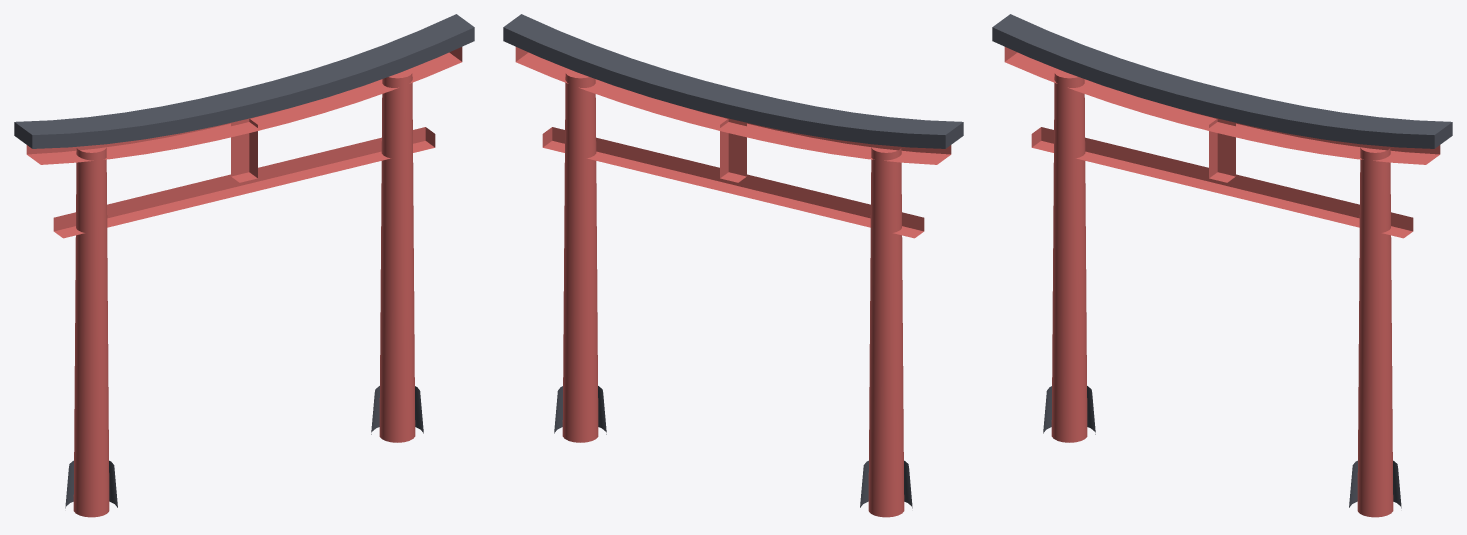
The model's file is torii_gate.glb.
3 renders of one model, left to right at view 1: azimuth 30°, elevation 25°; view 2: azimuth 150°, elevation 25°; view 3: azimuth 330°, elevation 25°, orthographic.
Parts seen in each view (by area): view 1: torii_gate; view 2: torii_gate; view 3: torii_gate.
Boxes of the visible parts, x1,y1,x2,y2 form: torii_gate: (14, 14, 474, 517); torii_gate: (503, 14, 963, 517); torii_gate: (992, 14, 1452, 517).
Bounding box in the file's own units: 5.35 × 4.6 × 0.56.
